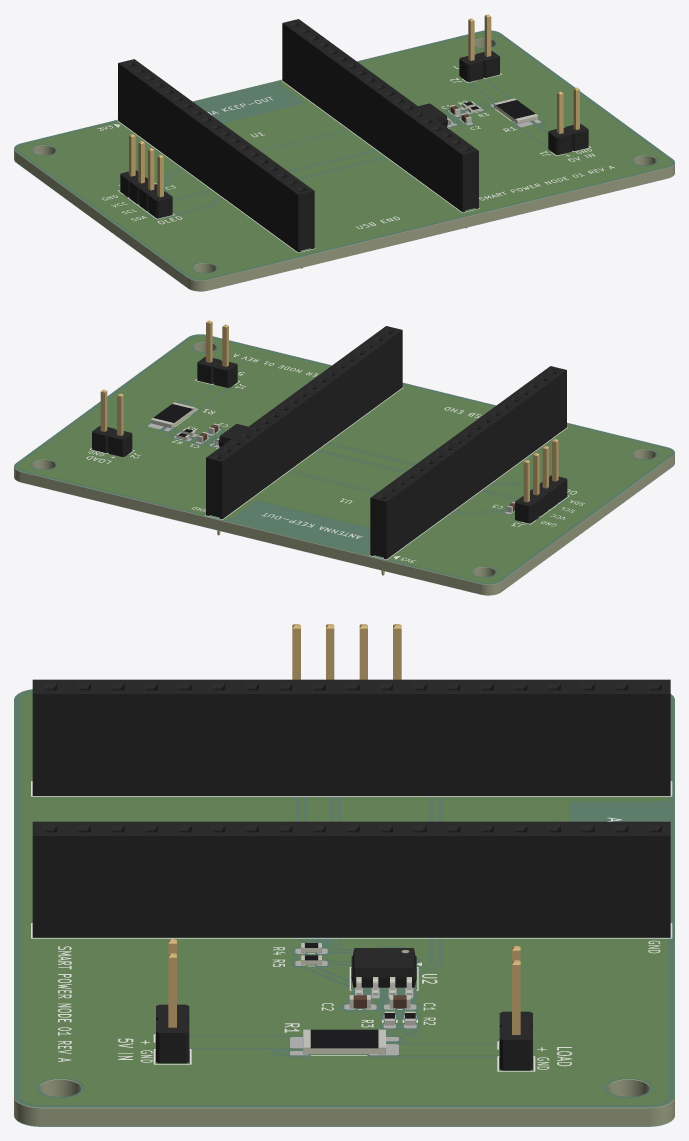
Rendered from power_node.glb.
3 renders of one model, top to bottom at view 1: azimuth 30°, elevation 25°; view 2: azimuth 150°, elevation 25°; view 3: azimuth 270°, elevation 25°, orthographic. The views are drawn at different scales.
Visible parts, largest first — view 1: =>[0:1:1:20], =>[0:1:1:16], =>[0:1:1:7] (×2), =>[0:1:1:22], =>[0:1:1:15] (×2), =>[0:1:1:11], =>[0:1:1:19], =>[0:1:1:13], =>[0:1:1:21]; view 2: =>[0:1:1:20], =>[0:1:1:16], =>[0:1:1:7] (×2), =>[0:1:1:22], =>[0:1:1:15] (×2), =>[0:1:1:11], =>[0:1:1:19], =>[0:1:1:13], =>[0:1:1:21]; view 3: =>[0:1:1:7] (×2), =>[0:1:1:20], =>[0:1:1:16], =>[0:1:1:22], =>[0:1:1:15] (×2), =>[0:1:1:19], =>[0:1:1:5], =>[0:1:1:13], =>[0:1:1:11], =>[0:1:1:17].
Boxes of the visible parts, box(x1,y1,x2,y2) form: =>[0:1:1:20]: box(14, 30, 674, 280); =>[0:1:1:16]: box(18, 33, 670, 278); =>[0:1:1:7] (×2): box(118, 19, 478, 268); =>[0:1:1:22]: box(14, 31, 674, 291); =>[0:1:1:15] (×2): box(459, 14, 588, 154); =>[0:1:1:11]: box(120, 134, 172, 218); =>[0:1:1:19]: box(97, 65, 614, 252); =>[0:1:1:13]: box(493, 98, 537, 124); =>[0:1:1:21]: box(15, 162, 674, 291); =>[0:1:1:20]: box(14, 334, 674, 584); =>[0:1:1:16]: box(18, 336, 670, 582); =>[0:1:1:7] (×2): box(206, 326, 566, 575); =>[0:1:1:22]: box(14, 335, 674, 595); =>[0:1:1:15] (×2): box(92, 320, 237, 456); =>[0:1:1:11]: box(515, 439, 567, 523); =>[0:1:1:19]: box(86, 353, 584, 562); =>[0:1:1:13]: box(151, 402, 195, 428); =>[0:1:1:21]: box(14, 465, 673, 595); =>[0:1:1:7] (×2): box(32, 679, 670, 937); =>[0:1:1:20]: box(14, 689, 674, 1107); =>[0:1:1:16]: box(21, 693, 667, 1104); =>[0:1:1:22]: box(14, 690, 674, 1126); =>[0:1:1:15] (×2): box(156, 939, 532, 1070); =>[0:1:1:19]: box(31, 781, 672, 1071); =>[0:1:1:5]: box(351, 948, 416, 995); =>[0:1:1:13]: box(303, 1029, 385, 1054); =>[0:1:1:11]: box(292, 624, 401, 679); =>[0:1:1:17]: box(290, 948, 416, 1055).
Size of the model in its own units: 0.075 by 0.0116 by 0.05.
